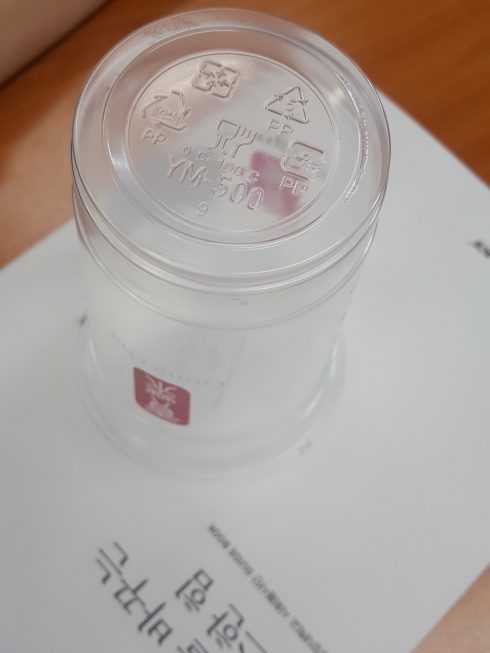recycle: (259, 69, 316, 139)
